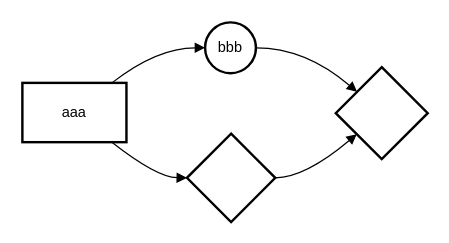
The diagram is 449 pixels wide and 243 high, and some of its shapes have lost their labels. The shapes that lost their labels are listed below. From the top down, each one's centre as x and y in pixels, then its label:
At (381,112): "ddd".
At (230,177): "ccc".
